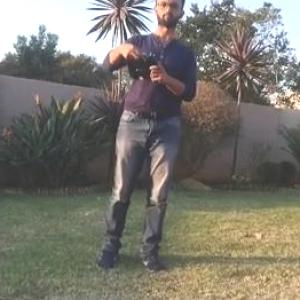follow: (88, 0, 203, 282)
